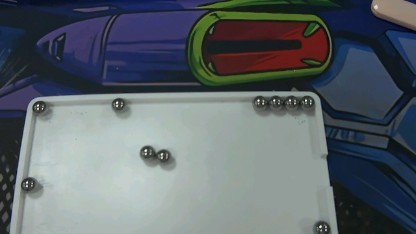ironball: (16, 174, 38, 195), (308, 214, 331, 233), (155, 141, 172, 165), (300, 90, 315, 114), (266, 92, 282, 112), (282, 92, 299, 110), (106, 97, 126, 112), (136, 144, 153, 160), (31, 100, 49, 113), (252, 95, 264, 113)
